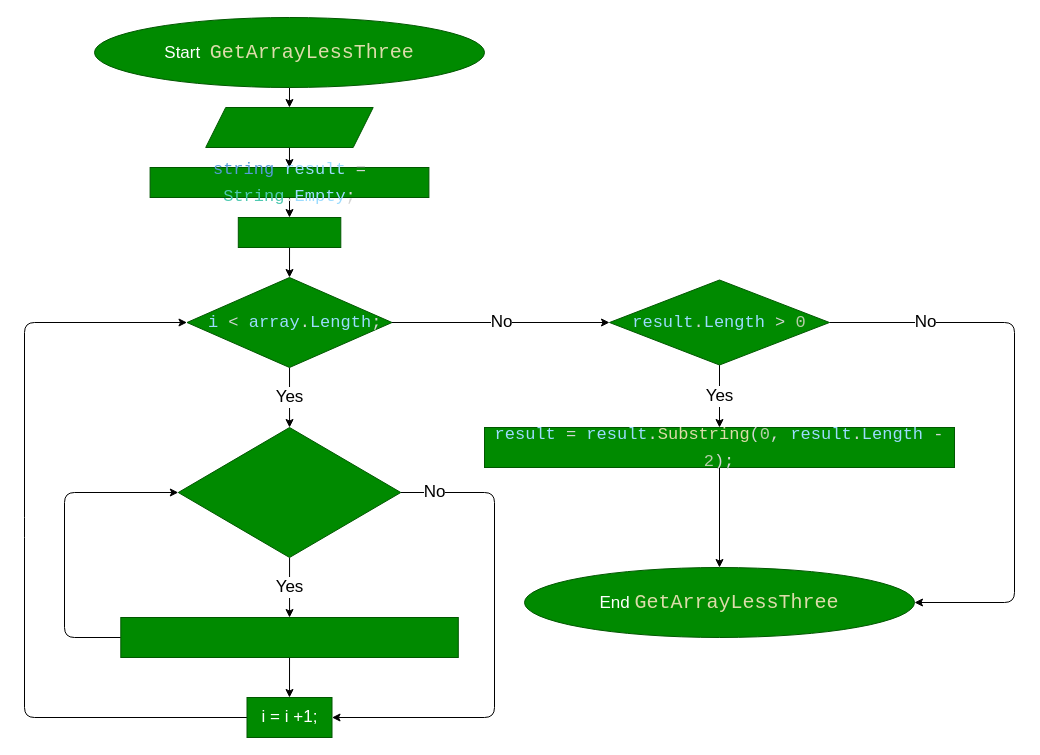
Some shapes in this 1040 by 755 pixel diagram are drawn without their labels. Here are the shapes that lost their labels. From the top down, the centre of each, then its label:
point 289,127: string [] array
point 289,232: int i = 0;
point 289,492: array [ i ]. Length <= 3
point 289,637: result = result + $" { array [ i ]} , " ;
